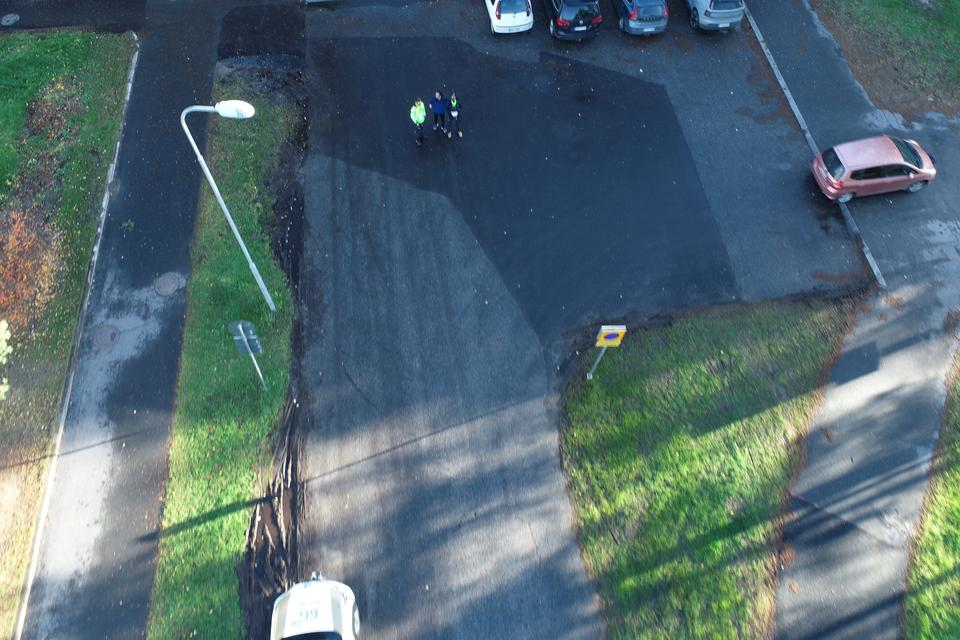intersection: (39, 0, 329, 110)
